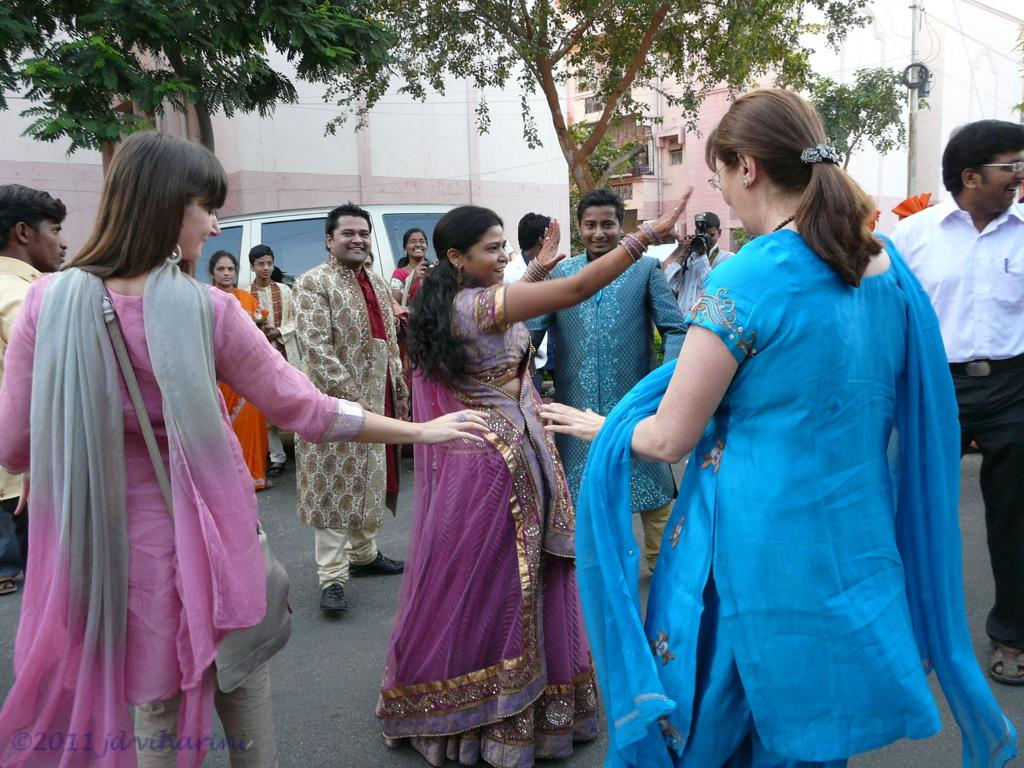face: (717, 155, 767, 232), (177, 186, 220, 258), (979, 153, 1024, 214), (463, 230, 507, 284), (29, 210, 67, 269), (579, 207, 619, 252), (332, 217, 370, 261), (213, 259, 234, 284), (539, 224, 558, 250), (698, 227, 718, 248), (254, 256, 273, 278), (406, 234, 425, 256)
